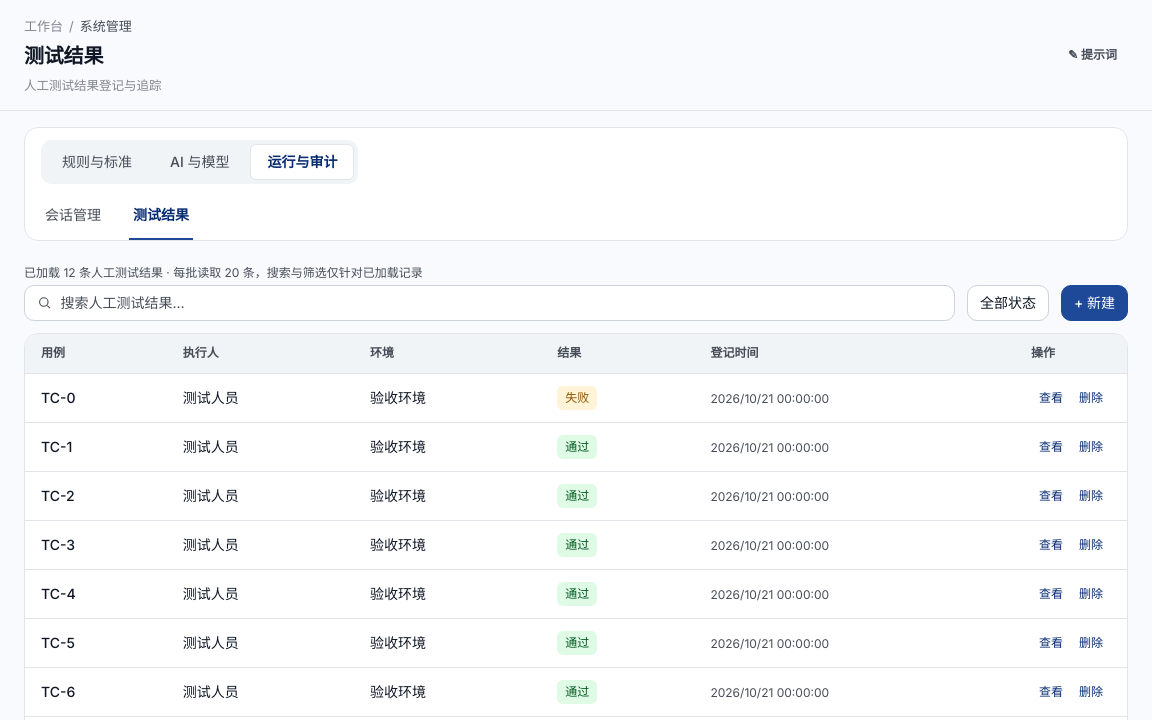
Test: 人工测试结果统一列表 › delete requires target confirmation and blocks repeat writes while pending
This screenshot has width=1152, height=720.
Check: the button "+ 新建" is enabled, box x1=1061 y1=284 x2=1128 y2=320
Click the button with aria-label "删除 TC-0" at point(1091, 398), box x1=1071 y1=382 x2=1111 y2=414
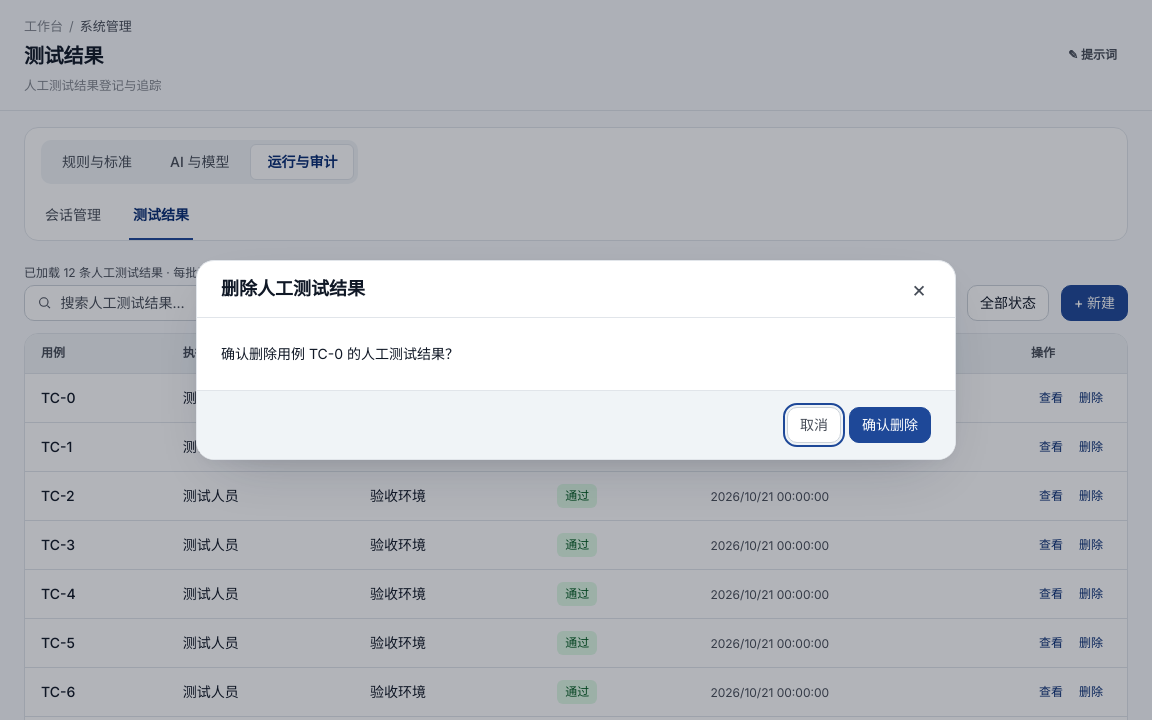
Check: the text "确认删除用例 TC-0 的人工测试结果？" is shown, box x1=221 y1=345 x2=459 y2=362
Click the button "确认删除" at point(890, 425), box x1=849 y1=407 x2=931 y2=443
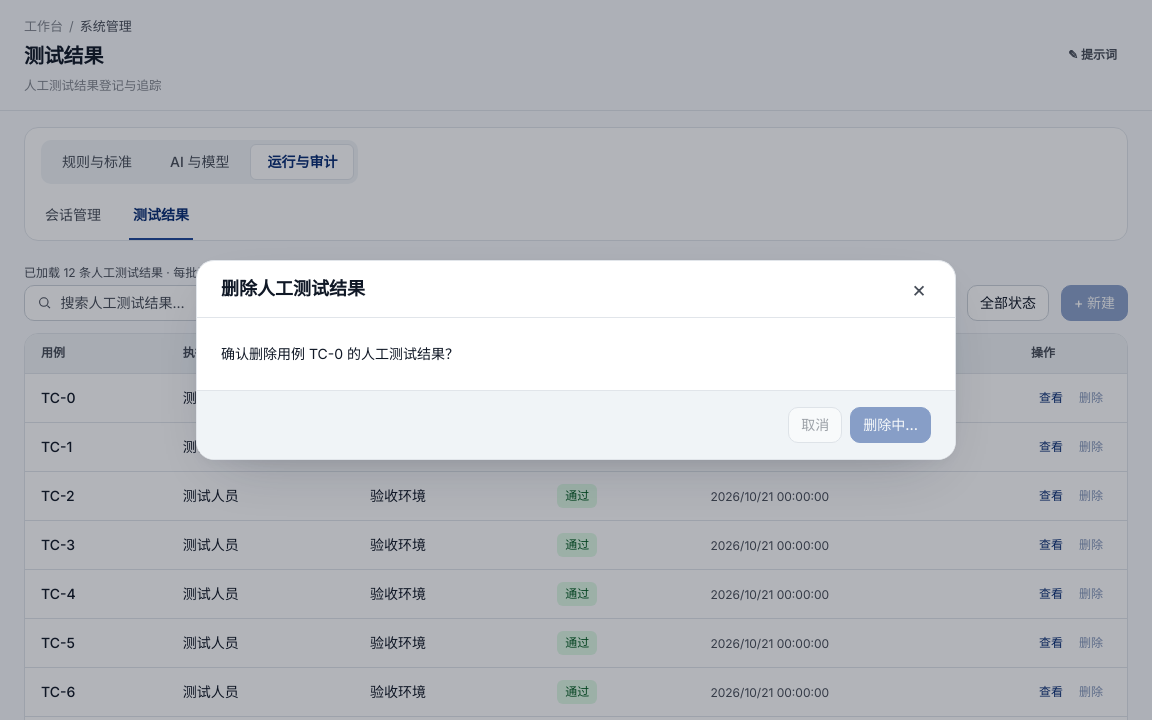
Check: the button "删除中…" is disabled, box x1=850 y1=407 x2=931 y2=443
Press Escape in the dialog "删除人工测试结果", box x1=196 y1=260 x2=956 y2=460
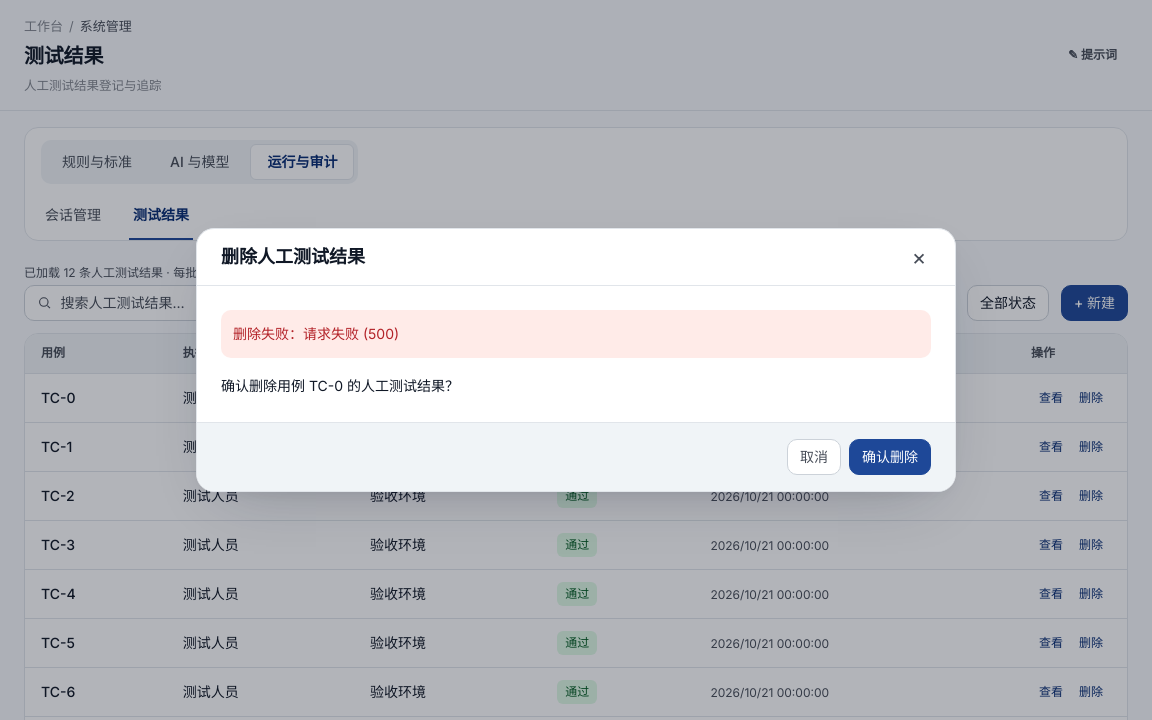
Check: the dialog "删除人工测试结果" is shown, box x1=196 y1=228 x2=956 y2=492
Check: the message shows "失败", box x1=221 y1=310 x2=931 y2=358
